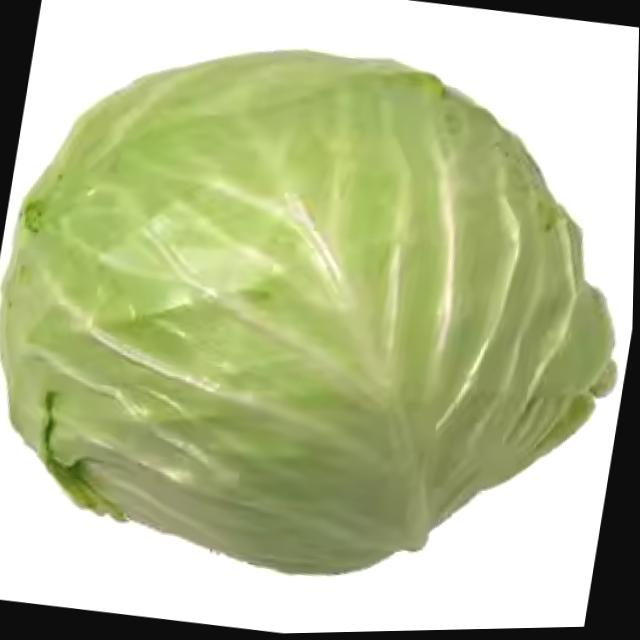Cabbage: (0, 3, 640, 617)
